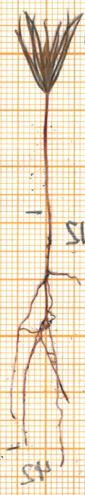flower: (0, 8, 85, 97)
root: (0, 213, 85, 468)
stem: (38, 97, 56, 213)
